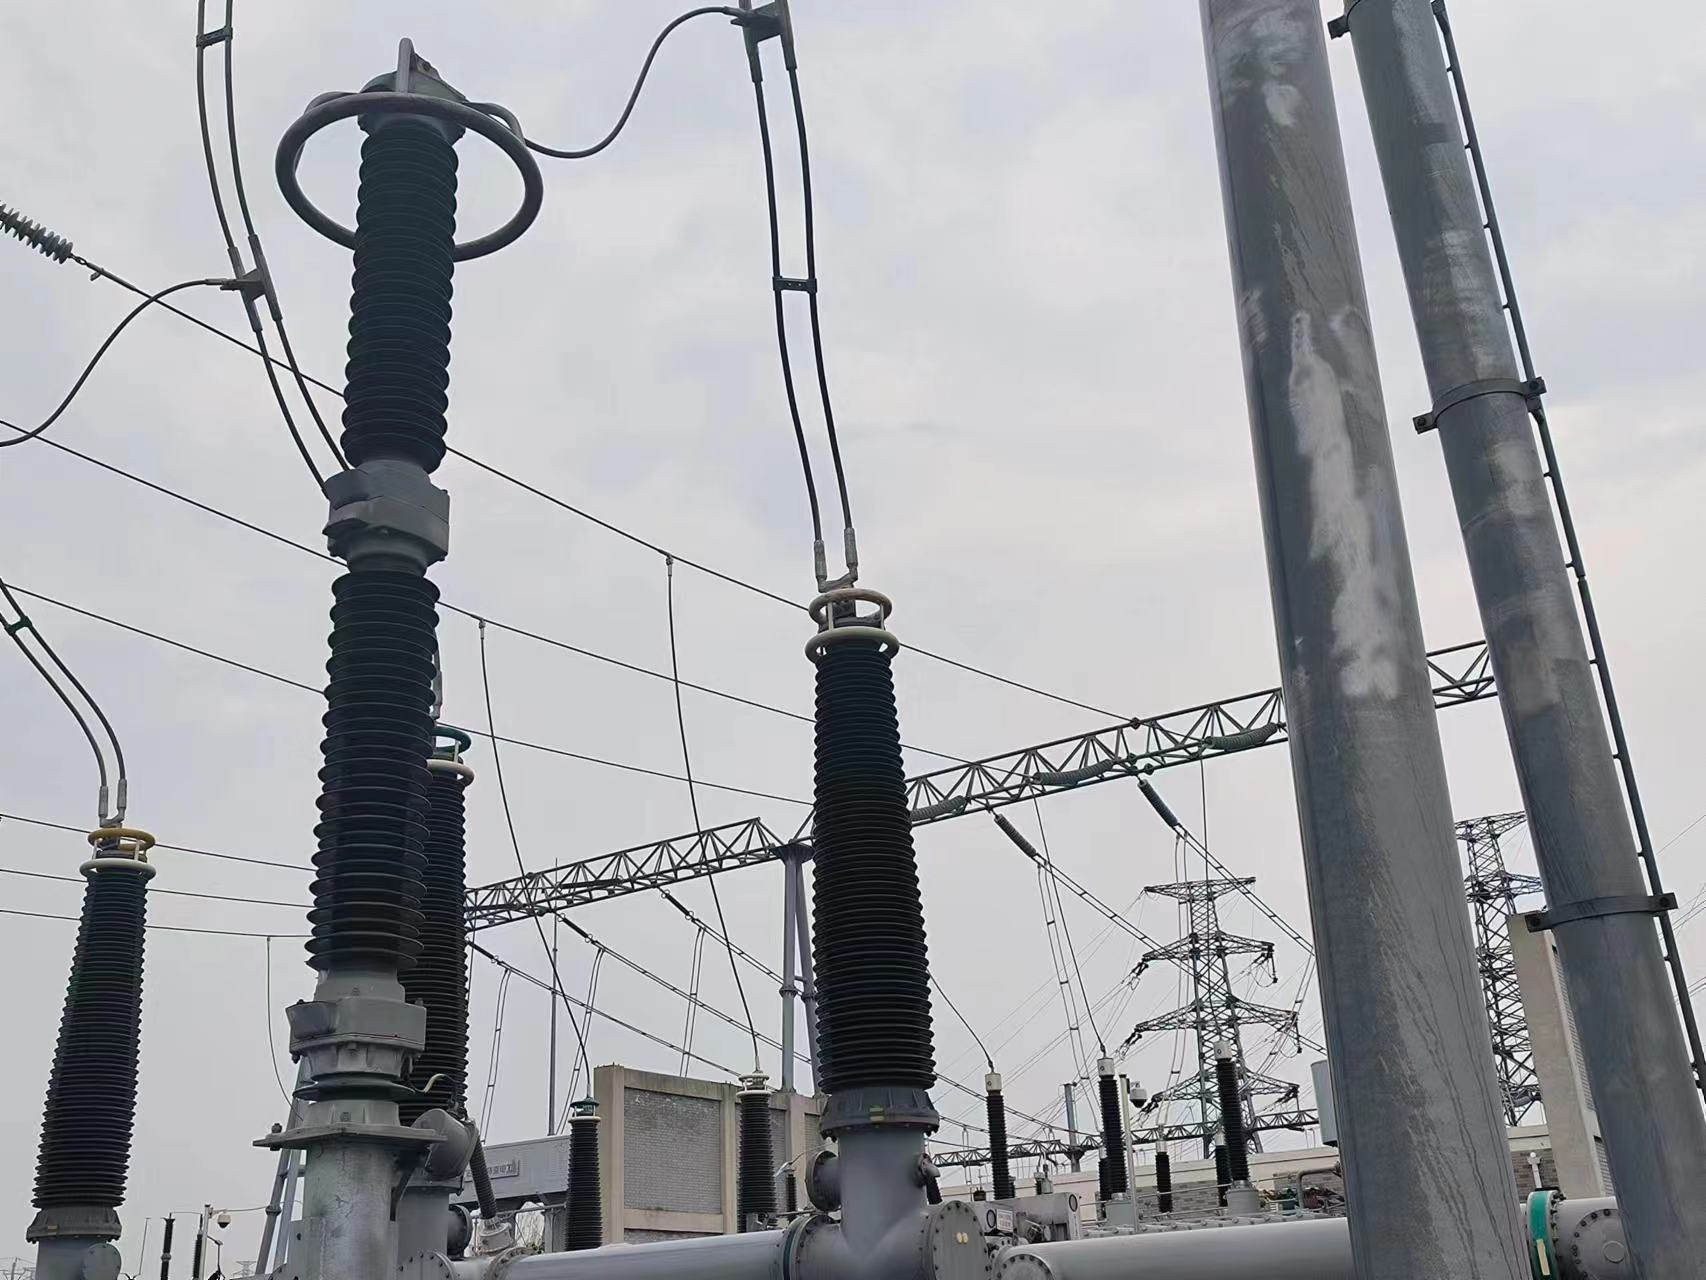Arrester: (263, 62, 553, 1078)
Voltage transformer: (803, 588, 936, 1125), (23, 826, 159, 1238)
